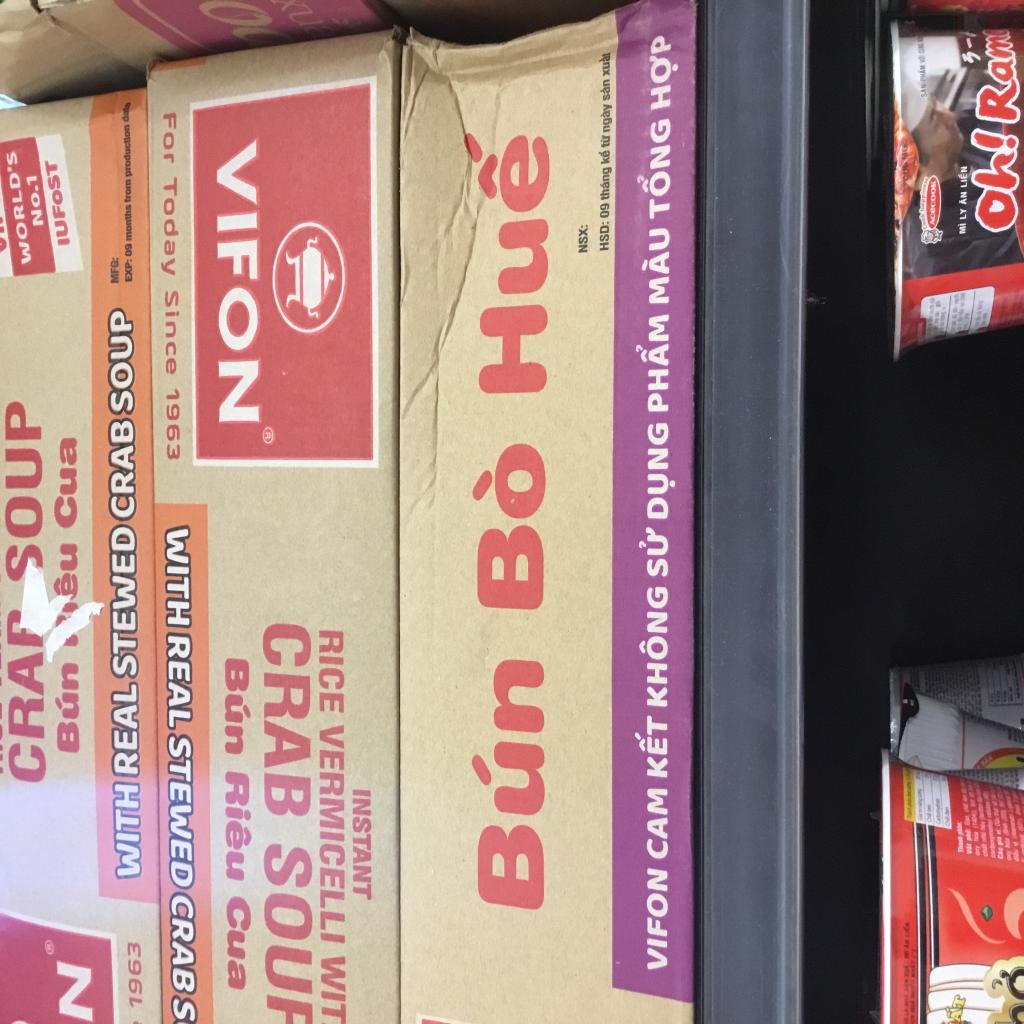text: (462, 127, 550, 398), (469, 654, 545, 914), (469, 440, 546, 610), (217, 139, 260, 424), (262, 838, 316, 1024), (262, 622, 312, 818), (6, 606, 48, 784), (5, 399, 44, 583), (319, 724, 346, 945), (969, 124, 1021, 235), (109, 523, 140, 680), (166, 732, 196, 891), (972, 35, 1022, 125), (638, 584, 670, 708), (636, 117, 672, 223), (634, 312, 670, 414), (224, 769, 254, 885), (106, 305, 136, 416), (111, 780, 143, 883), (4, 150, 32, 267), (107, 417, 138, 522), (169, 889, 198, 998), (110, 680, 141, 778), (646, 421, 676, 520), (164, 523, 192, 629), (270, 0, 340, 42), (166, 629, 194, 734), (224, 657, 253, 756), (193, 0, 284, 29), (43, 158, 72, 248), (52, 435, 79, 530), (226, 895, 252, 993), (56, 958, 94, 1023), (54, 662, 80, 756), (646, 866, 669, 972), (640, 227, 671, 305), (648, 34, 679, 112), (317, 629, 345, 714), (634, 713, 669, 779), (352, 788, 372, 902), (160, 175, 180, 280), (53, 542, 79, 614), (320, 955, 347, 1024), (638, 523, 669, 578), (646, 788, 668, 860), (164, 290, 181, 376), (126, 940, 144, 1010), (166, 386, 182, 461), (25, 174, 45, 228), (162, 111, 178, 165), (171, 993, 198, 1024), (945, 993, 967, 1024), (122, 124, 134, 177), (960, 36, 982, 64), (918, 173, 930, 212), (600, 166, 612, 202), (600, 103, 614, 133), (598, 220, 610, 254), (597, 51, 612, 78), (577, 222, 589, 255), (929, 180, 937, 226), (124, 204, 132, 242), (599, 77, 611, 102), (110, 256, 120, 284), (988, 830, 997, 860), (123, 259, 133, 284), (958, 164, 968, 188), (123, 178, 132, 204), (121, 102, 132, 123), (598, 149, 610, 166), (980, 754, 994, 768), (917, 64, 927, 83), (600, 202, 610, 220), (600, 134, 611, 150), (980, 842, 990, 858), (919, 213, 928, 230), (964, 826, 973, 843), (956, 835, 964, 854), (124, 242, 133, 258), (959, 190, 968, 206), (956, 819, 964, 837), (918, 84, 928, 98), (903, 921, 911, 938), (971, 813, 979, 830), (959, 206, 968, 220), (963, 813, 972, 827), (957, 222, 967, 234), (1002, 822, 1010, 837), (1012, 848, 1020, 863), (974, 843, 982, 857), (996, 846, 1004, 860), (972, 830, 980, 843), (996, 836, 1005, 847), (1006, 848, 1013, 862), (910, 947, 918, 959), (944, 805, 952, 817), (965, 842, 973, 854), (944, 816, 951, 829), (979, 819, 986, 832), (917, 54, 926, 64), (1004, 836, 1011, 848), (1011, 839, 1020, 848), (264, 431, 272, 440), (46, 942, 53, 952), (995, 828, 1003, 836), (904, 939, 910, 949), (927, 812, 932, 824), (918, 788, 923, 799), (904, 950, 909, 960), (927, 804, 932, 813)
